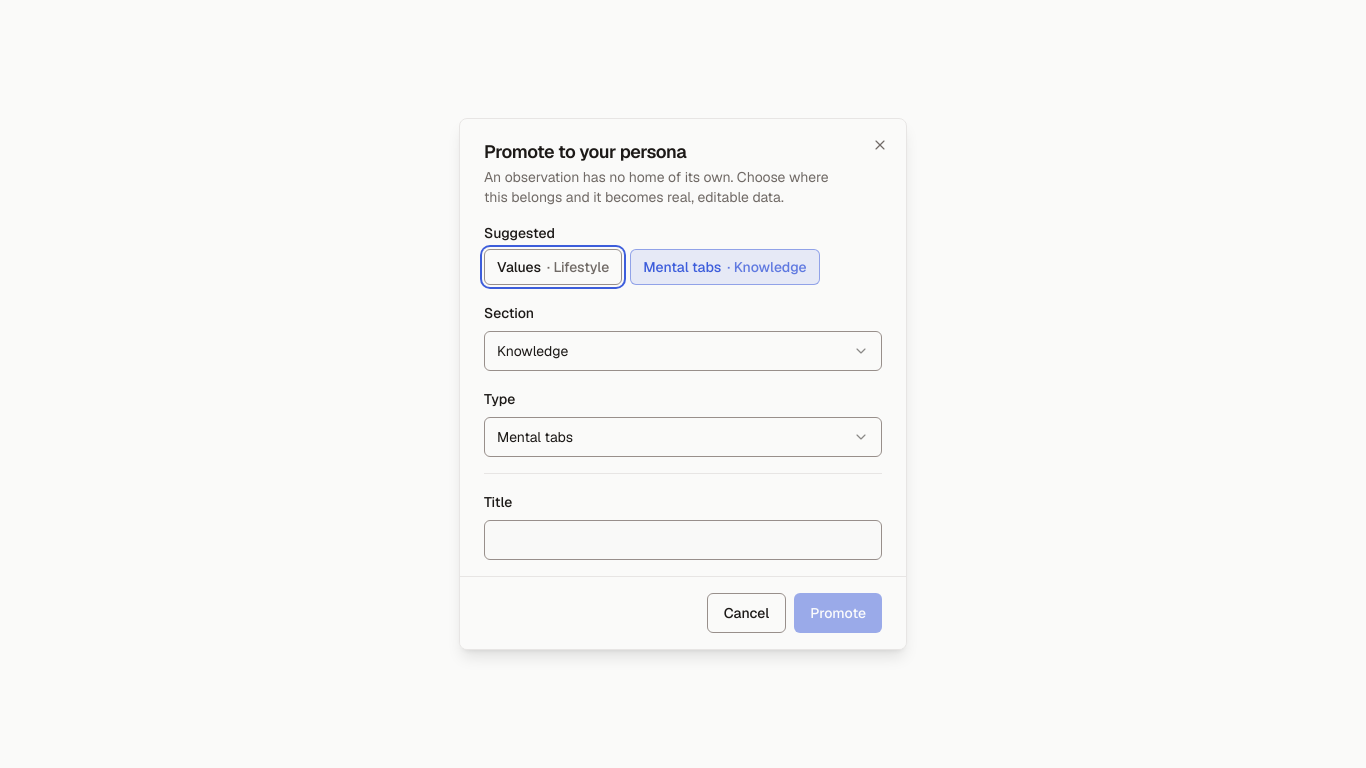
it: suggestions › offers them across sections, and one tap files it there
Click the button with aria-label "Values, in Lifestyle". click: {"x": 553, "y": 267}
box: 484,249 -> 622,285
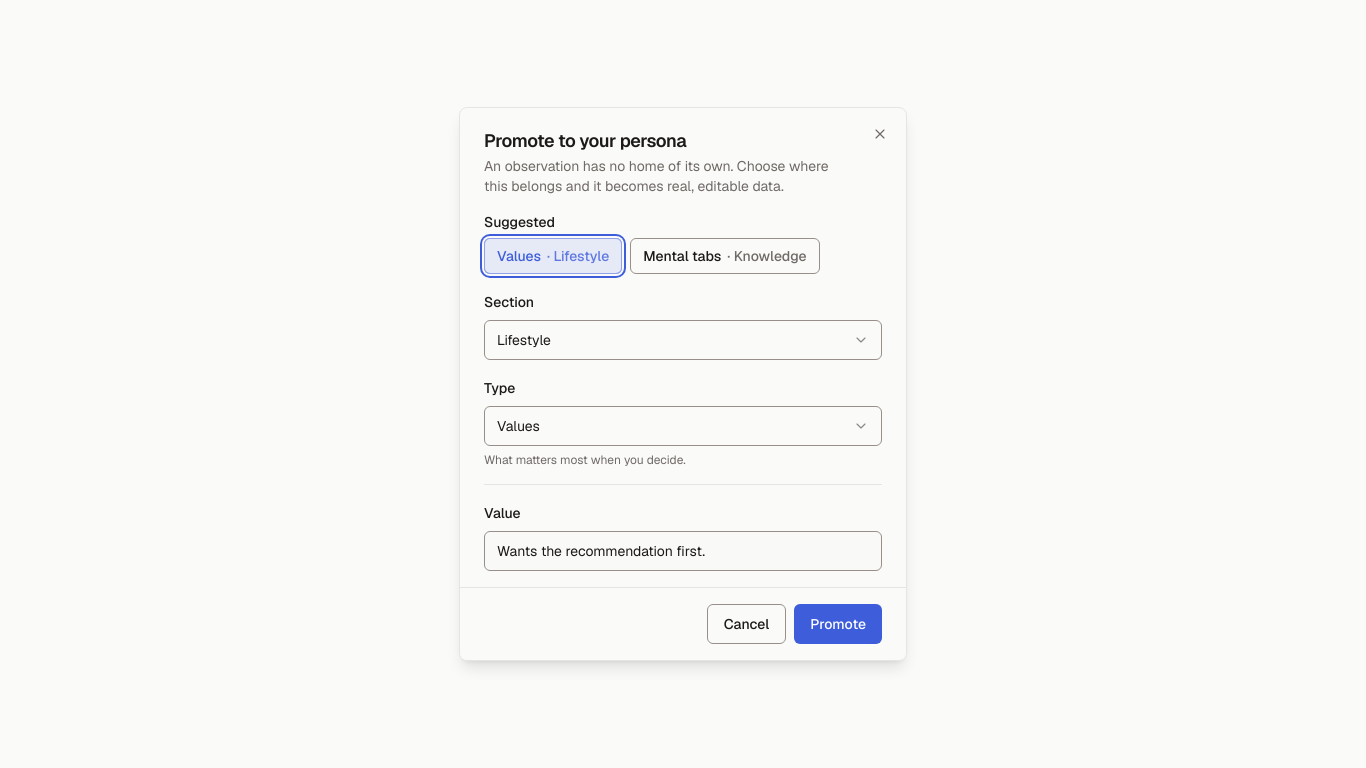
Check: the dropdown named "section" reads "Lifestyle", box 484,320 -> 882,360
Check: the dropdown named "type" reads "Values", box 484,406 -> 882,446
